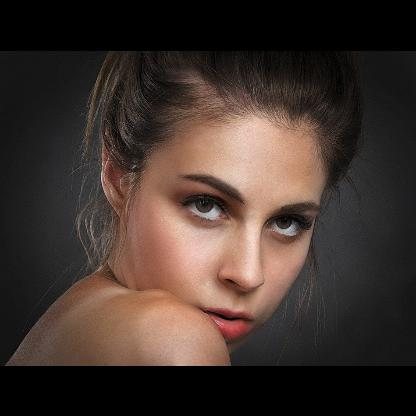Female: (101, 93, 321, 349)
